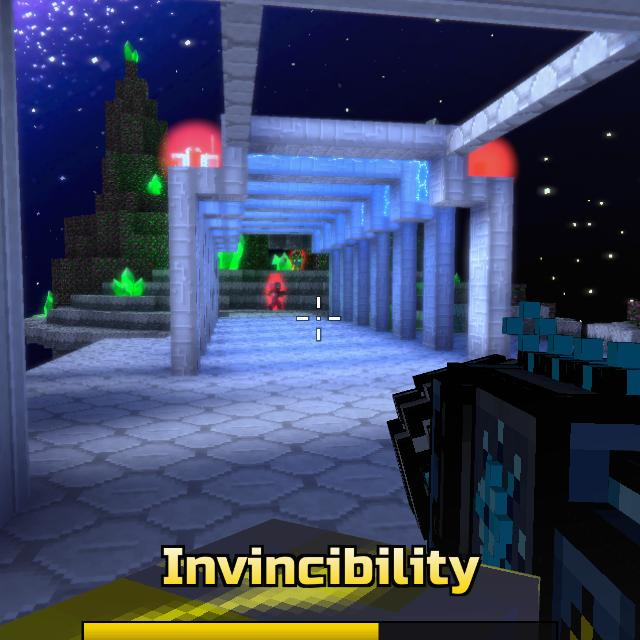Enemy: (268, 282, 286, 310), (291, 249, 304, 271)
